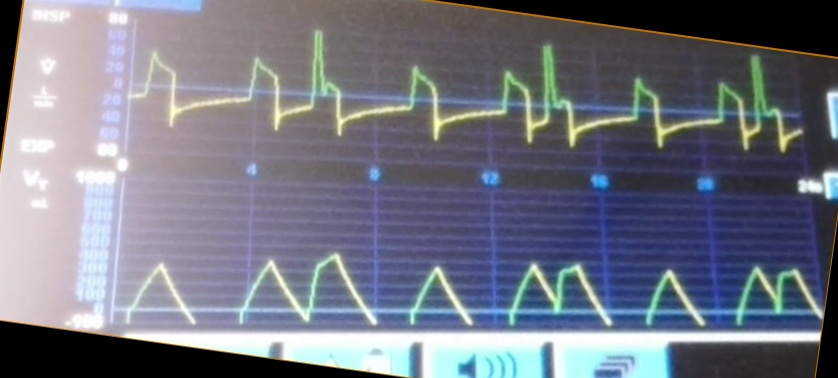Double_Triggering Flow: (245, 28, 802, 153)
Double_Triggering Volume: (232, 248, 821, 327)
